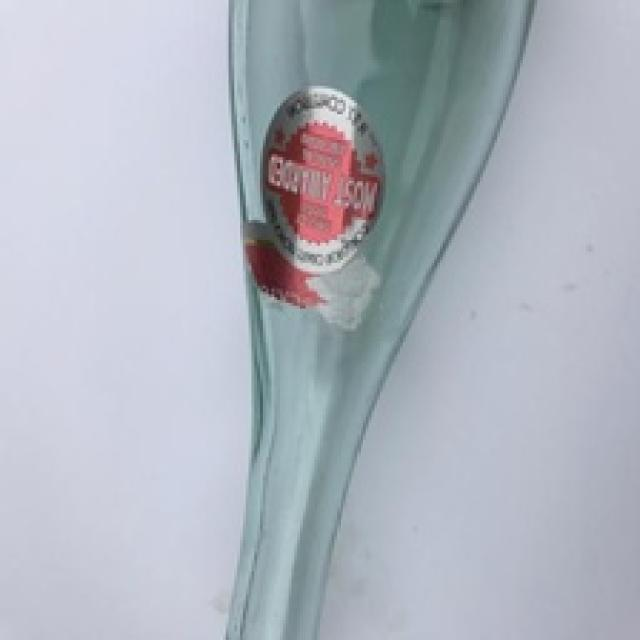Glass: (224, 0, 533, 640)
